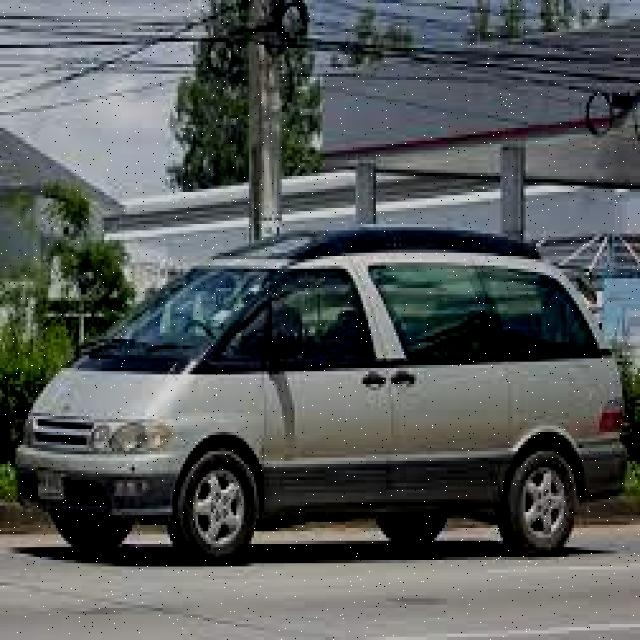Van: (31, 231, 620, 564)
